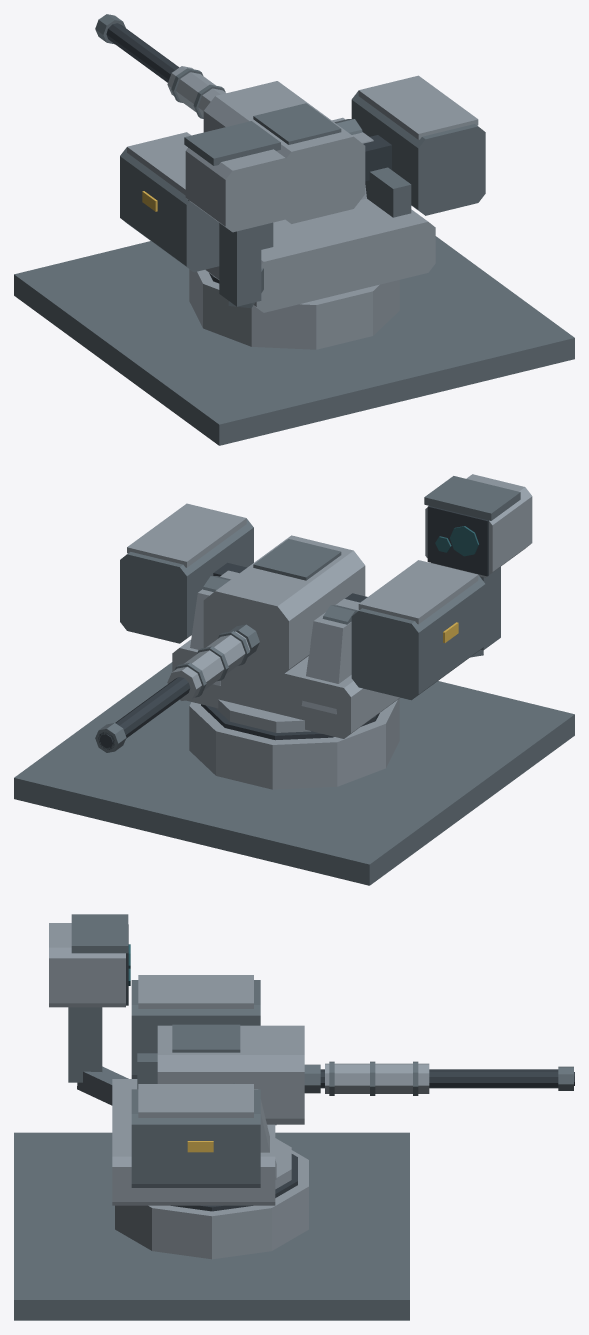
Rendered from MOD_Autocannon_U2.fbx.
3 renders of one model, top to bottom at view 1: azimuth 30°, elevation 25°; view 2: azimuth 150°, elevation 25°; view 3: azimuth 270°, elevation 25°, orthographic. The views are drawn at different scales.
Visible parts, largest first — view 1: AC8_FixedDeckPlate, ElevationPivot_Visual_Deck_Grey, ElevationPivot_Visual_Naval_Blue_Grey, TurretPivot_Visual_Naval_Blue_Grey, AC8_FixedPedestal, AC8_EoIrHead, TurretPivot_Visual_Deck_Grey, AC8_EoIrProtectiveBrow, ElevationPivot_Visual_Gunmetal; view 2: AC8_FixedDeckPlate, ElevationPivot_Visual_Deck_Grey, ElevationPivot_Visual_Naval_Blue_Grey, TurretPivot_Visual_Naval_Blue_Grey, AC8_FixedPedestal, AC8_EoIrHead, AC8_OpticalFrontPanel, AC8_EoIrProtectiveBrow, ElevationPivot_Visual_Gunmetal, TurretPivot_Visual_Deck_Grey, AC8_FixedBearingSeat, OpticsPivot_Visual_Sensor_Glass; view 3: AC8_FixedDeckPlate, ElevationPivot_Visual_Naval_Blue_Grey, ElevationPivot_Visual_Deck_Grey, AC8_FixedPedestal, TurretPivot_Visual_Naval_Blue_Grey, AC8_EoIrHead, TurretPivot_Visual_Deck_Grey, ElevationPivot_Visual_Gunmetal, AC8_EoIrProtectiveBrow, AC8_FixedBearingSeat.
Part boxes in pixels (x1,y1,x2,y2): AC8_FixedDeckPlate: (14,236,574,445); ElevationPivot_Visual_Deck_Grey: (95,14,485,272); ElevationPivot_Visual_Naval_Blue_Grey: (127,66,478,223); TurretPivot_Visual_Naval_Blue_Grey: (205,117,435,312); AC8_FixedPedestal: (189,269,399,349); AC8_EoIrHead: (185,147,292,232); TurretPivot_Visual_Deck_Grey: (219,119,411,308); AC8_EoIrProtectiveBrow: (184,121,280,165); ElevationPivot_Visual_Gunmetal: (106,23,391,181); AC8_FixedDeckPlate: (14,662,574,885); ElevationPivot_Visual_Deck_Grey: (95,518,485,752); ElevationPivot_Visual_Naval_Blue_Grey: (127,503,478,700); TurretPivot_Visual_Naval_Blue_Grey: (172,570,399,738); AC8_FixedPedestal: (189,698,399,789); AC8_EoIrHead: (425,474,532,577); AC8_OpticalFrontPanel: (427,506,488,576); AC8_EoIrProtectiveBrow: (424,476,520,520); ElevationPivot_Visual_Gunmetal: (98,562,367,749); TurretPivot_Visual_Deck_Grey: (203,567,500,657); AC8_FixedBearingSeat: (201,704,379,740); OpticsPivot_Visual_Sensor_Glass: (435,526,478,556); AC8_FixedDeckPlate: (14,1132,409,1320); ElevationPivot_Visual_Naval_Blue_Grey: (138,975,429,1124); ElevationPivot_Visual_Deck_Grey: (131,980,573,1187); AC8_FixedPedestal: (115,1150,308,1259); TurretPivot_Visual_Naval_Blue_Grey: (112,1079,291,1205); AC8_EoIrHead: (49,923,125,1007); TurretPivot_Visual_Deck_Grey: (68,1007,234,1105); ElevationPivot_Visual_Gunmetal: (320,1069,574,1088); AC8_EoIrProtectiveBrow: (71,914,128,953); AC8_FixedBearingSeat: (171,1154,297,1211).
Size of the model in its own units: 175 by 122 by 248.
